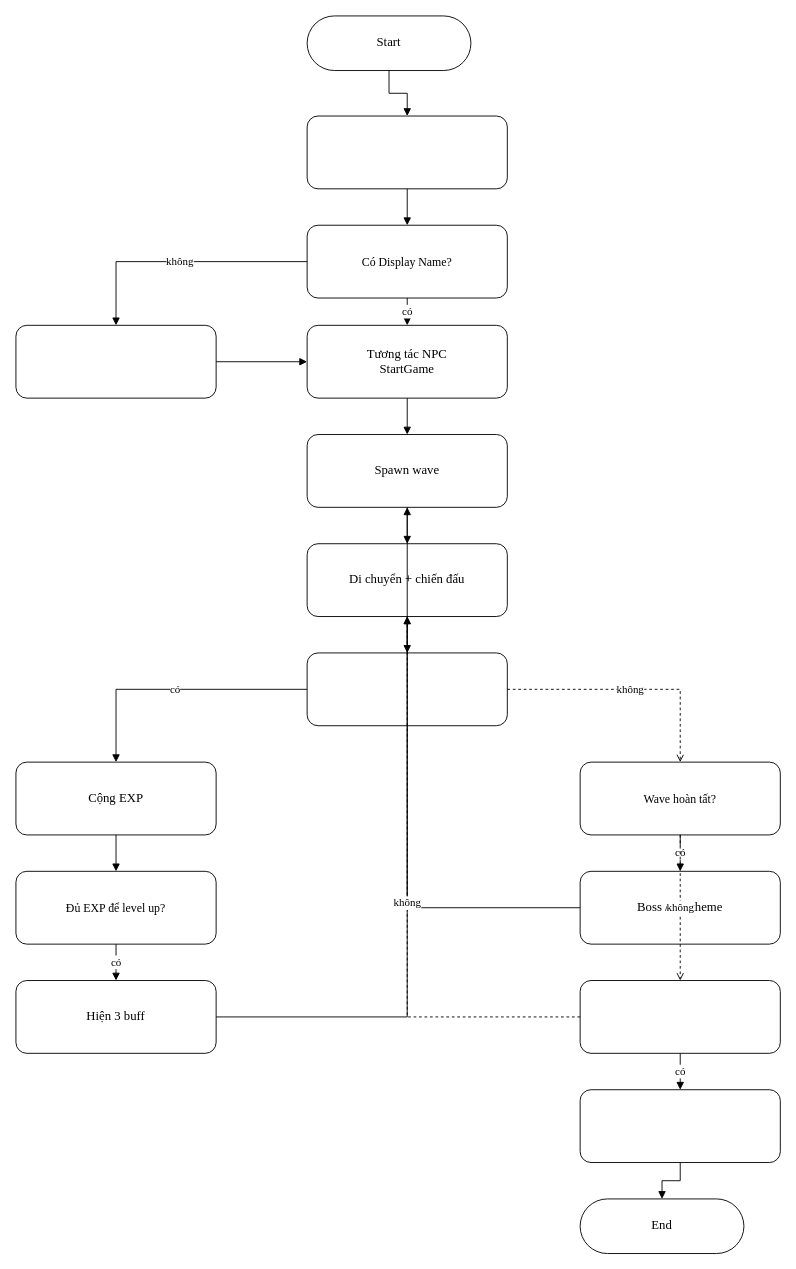
This 796x1269 diagram has some shape labels left out. Here are the shapes that lost their labels. From the top down, the box of each, then its label:
(306, 115, 507, 189): Đăng nhập PlayFab
(15, 324, 216, 398): Nhập tên
(306, 652, 507, 726): Enemy chết?
(579, 980, 780, 1053): Player chết?
(579, 1089, 780, 1163): Gửi HighScore Hiện leaderboard
